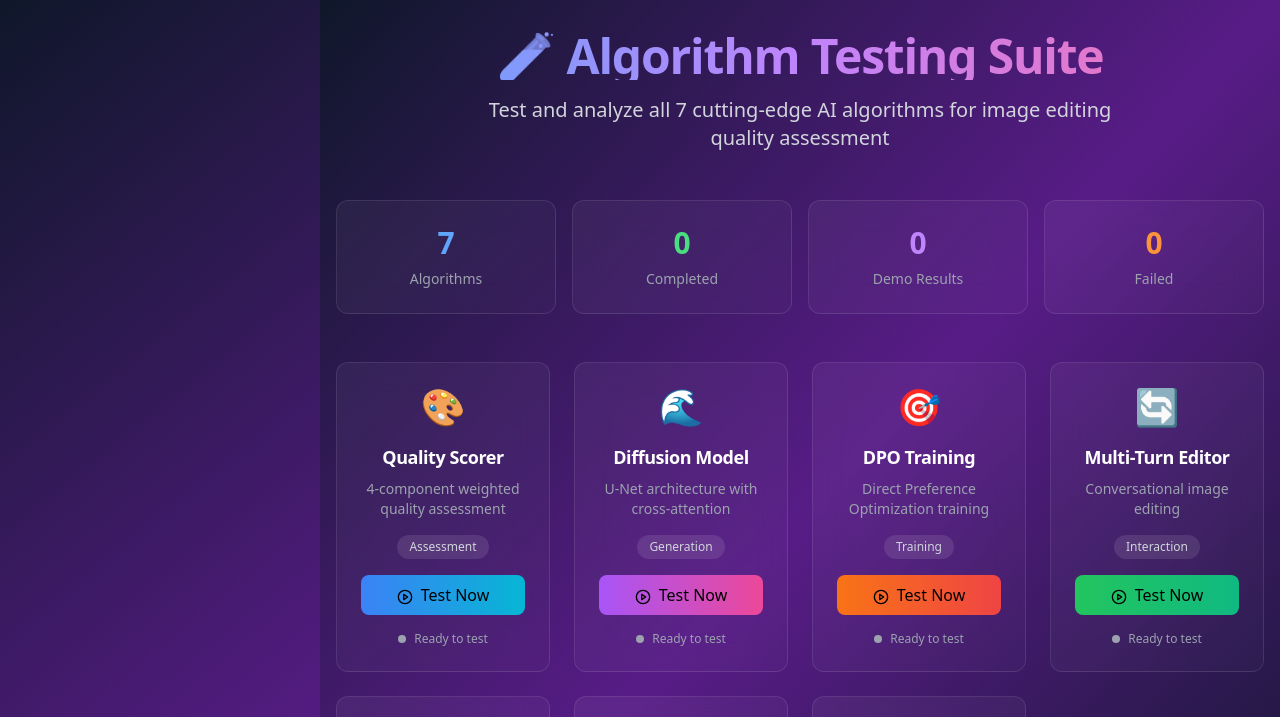
Scenario: labels offline Diffusion Model fallback as demo data
Click the button "Test Now" below "Generation".
click(681, 595)  # box [599,575,763,615]
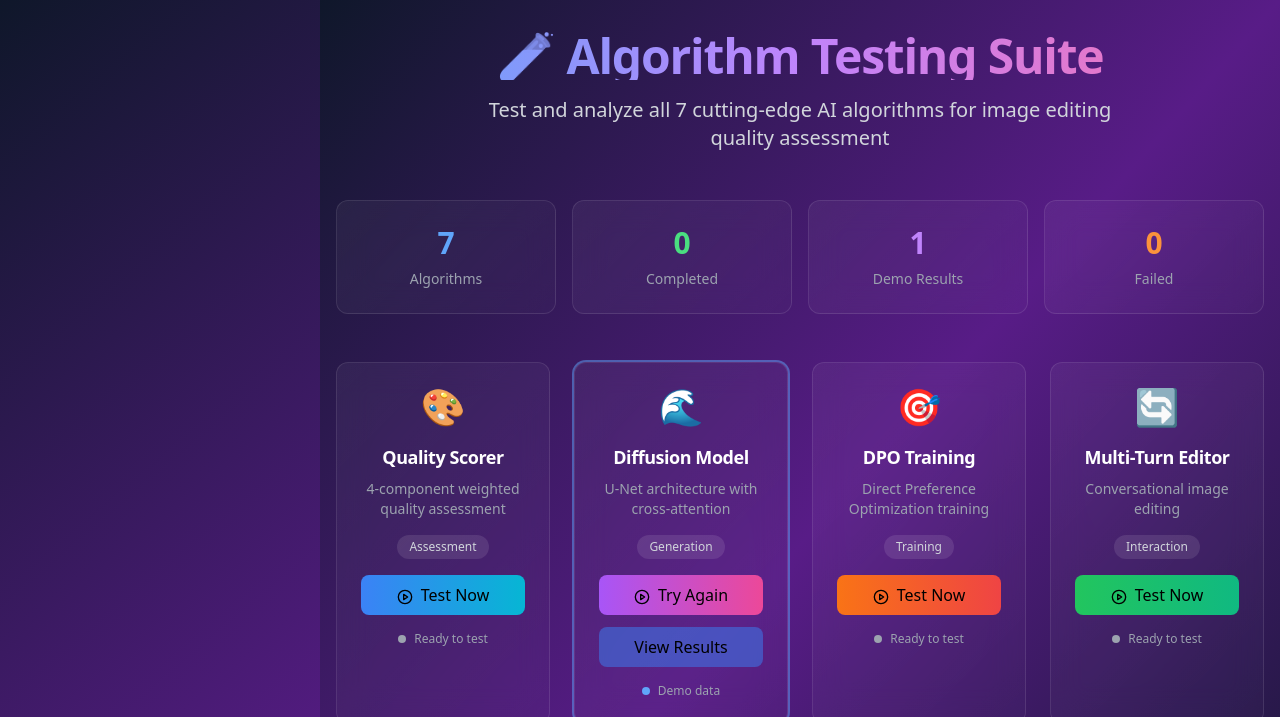
Check: the 1st text "0" is shown, box [673,222,691,263]
Check: the text "Demo data" is shown, box [658,683,720,699]
Check: the text "1" is shown, box [909,222,927,263]
Click the button "View Results".
click(681, 647)  # box [599,627,763,667]
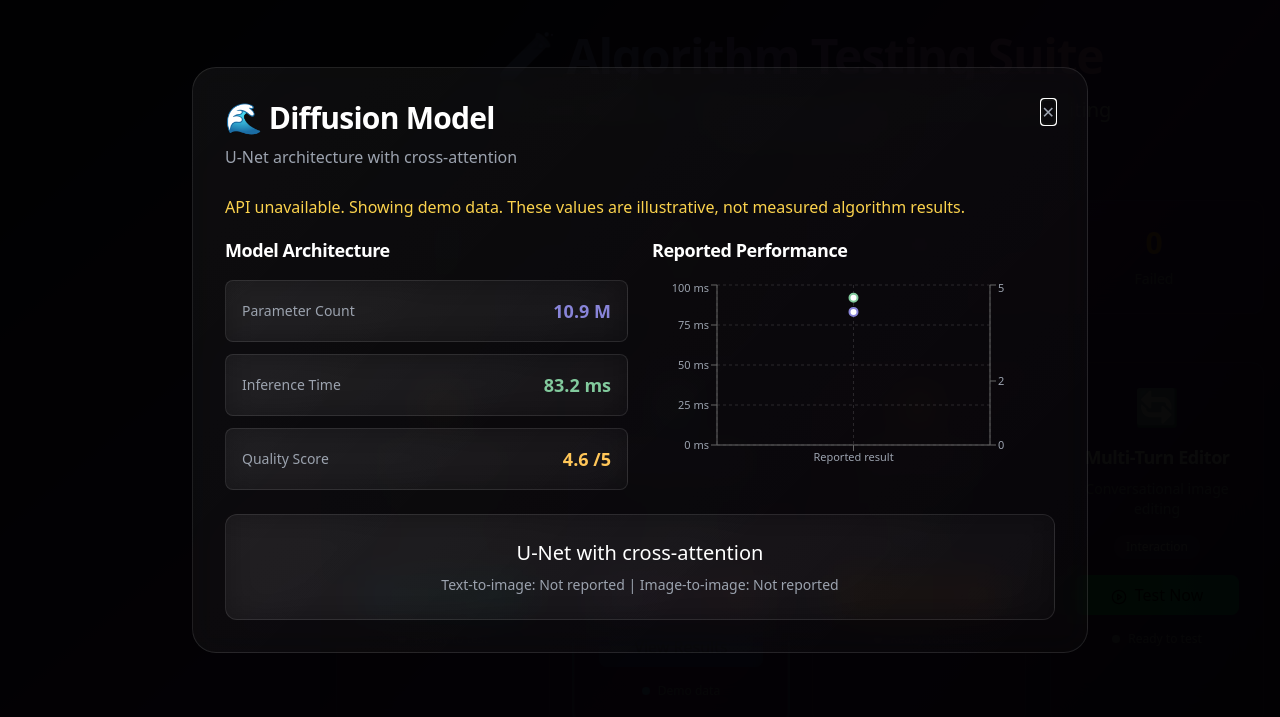
Check: the message shows "API unavailable. Showing demo data.", box [225,196,503,218]
